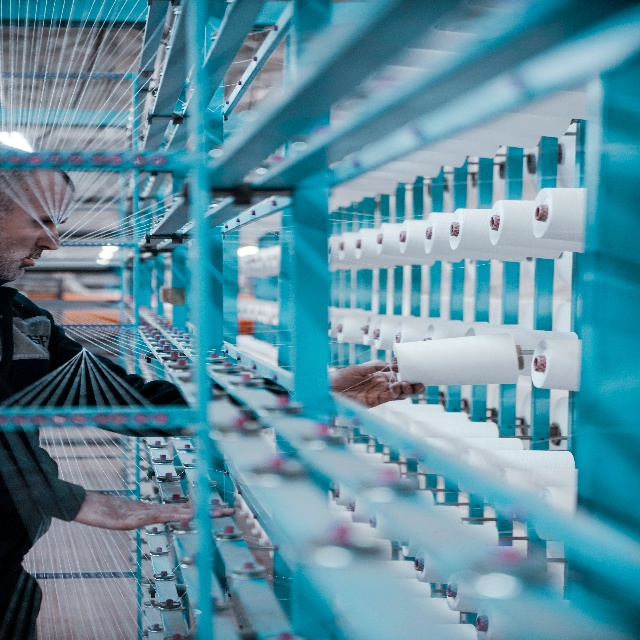Sin_guantes: (77, 490, 236, 532), (330, 360, 426, 408)
